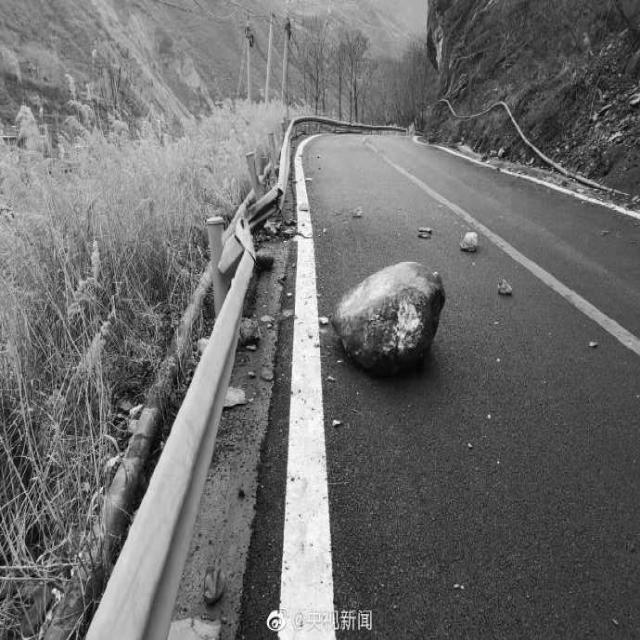Stone: (331, 262, 445, 374)
